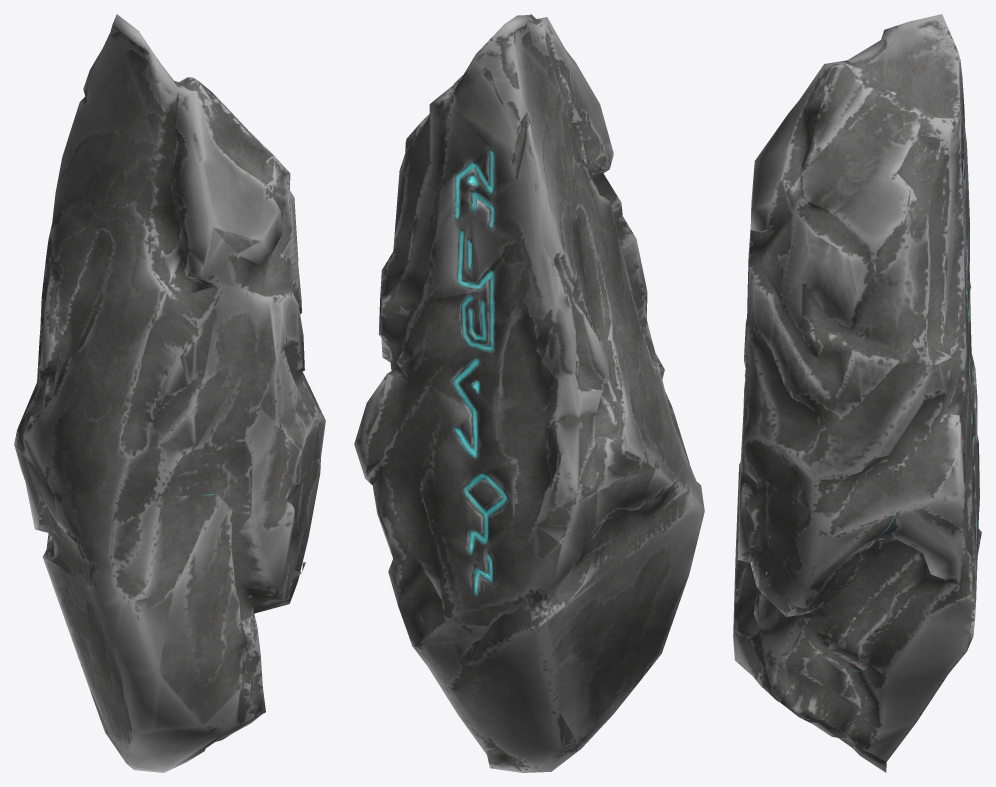
Rendered from rune_stone.glb.
The picture shows the model from 3 angles, left to right: view 1: azimuth 30°, elevation 25°; view 2: azimuth 150°, elevation 25°; view 3: azimuth 270°, elevation 25°; orthographic projection. The views are drawn at different scales.
Visible parts, largest first — view 1: runestone_low__0; view 2: runestone_low__0; view 3: runestone_low__0.
Part boxes in pixels (bbox=[...]): runestone_low__0: bbox=[14, 14, 325, 772]; runestone_low__0: bbox=[354, 14, 704, 772]; runestone_low__0: bbox=[733, 14, 981, 772].
Bounding box in the file's own units: 313 × 874 × 267.
1 material, 1 textured.
